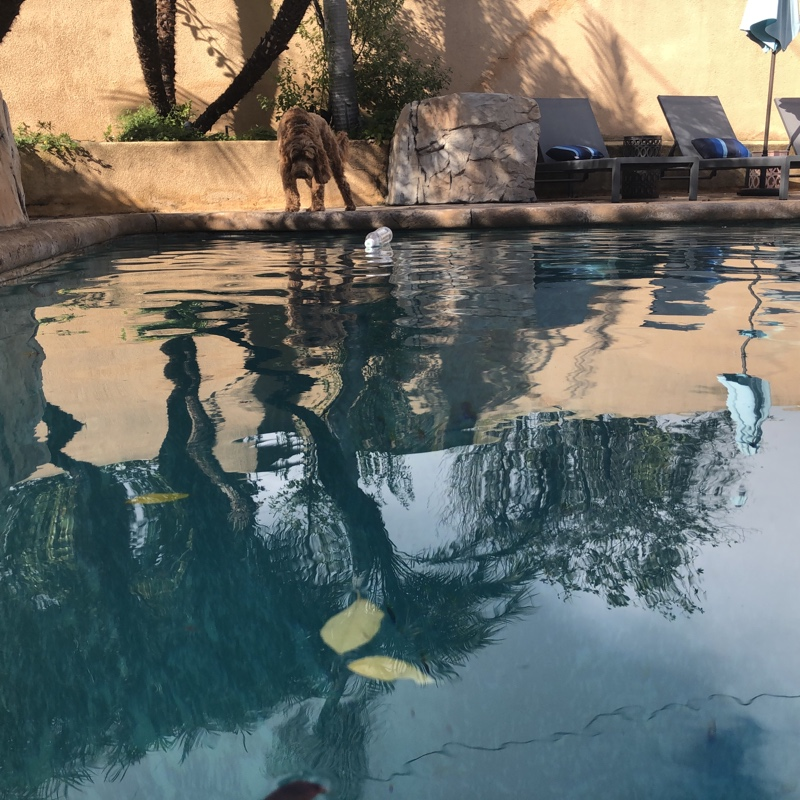Plastic Bottle: (361, 229, 395, 247)
